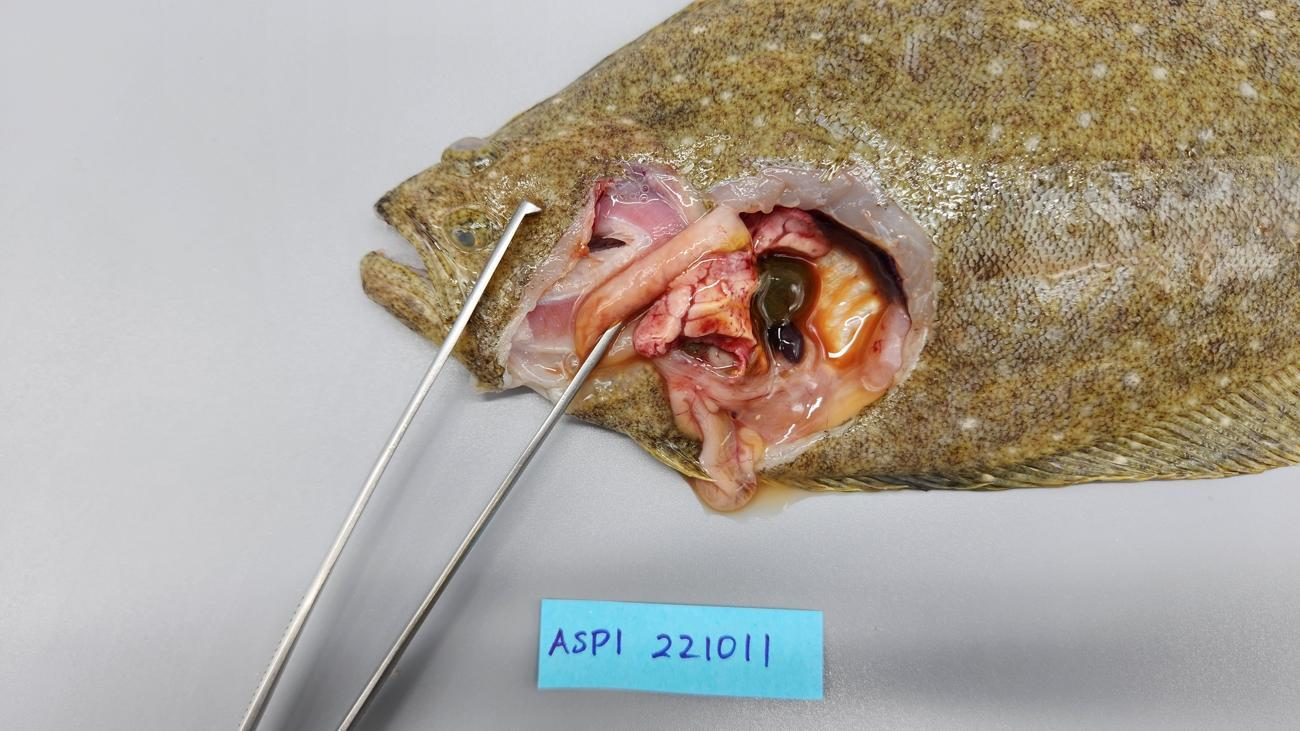SPINH: (572, 289, 617, 357)
SPINI: (660, 372, 745, 422)
SPSPE: (768, 320, 805, 364)
